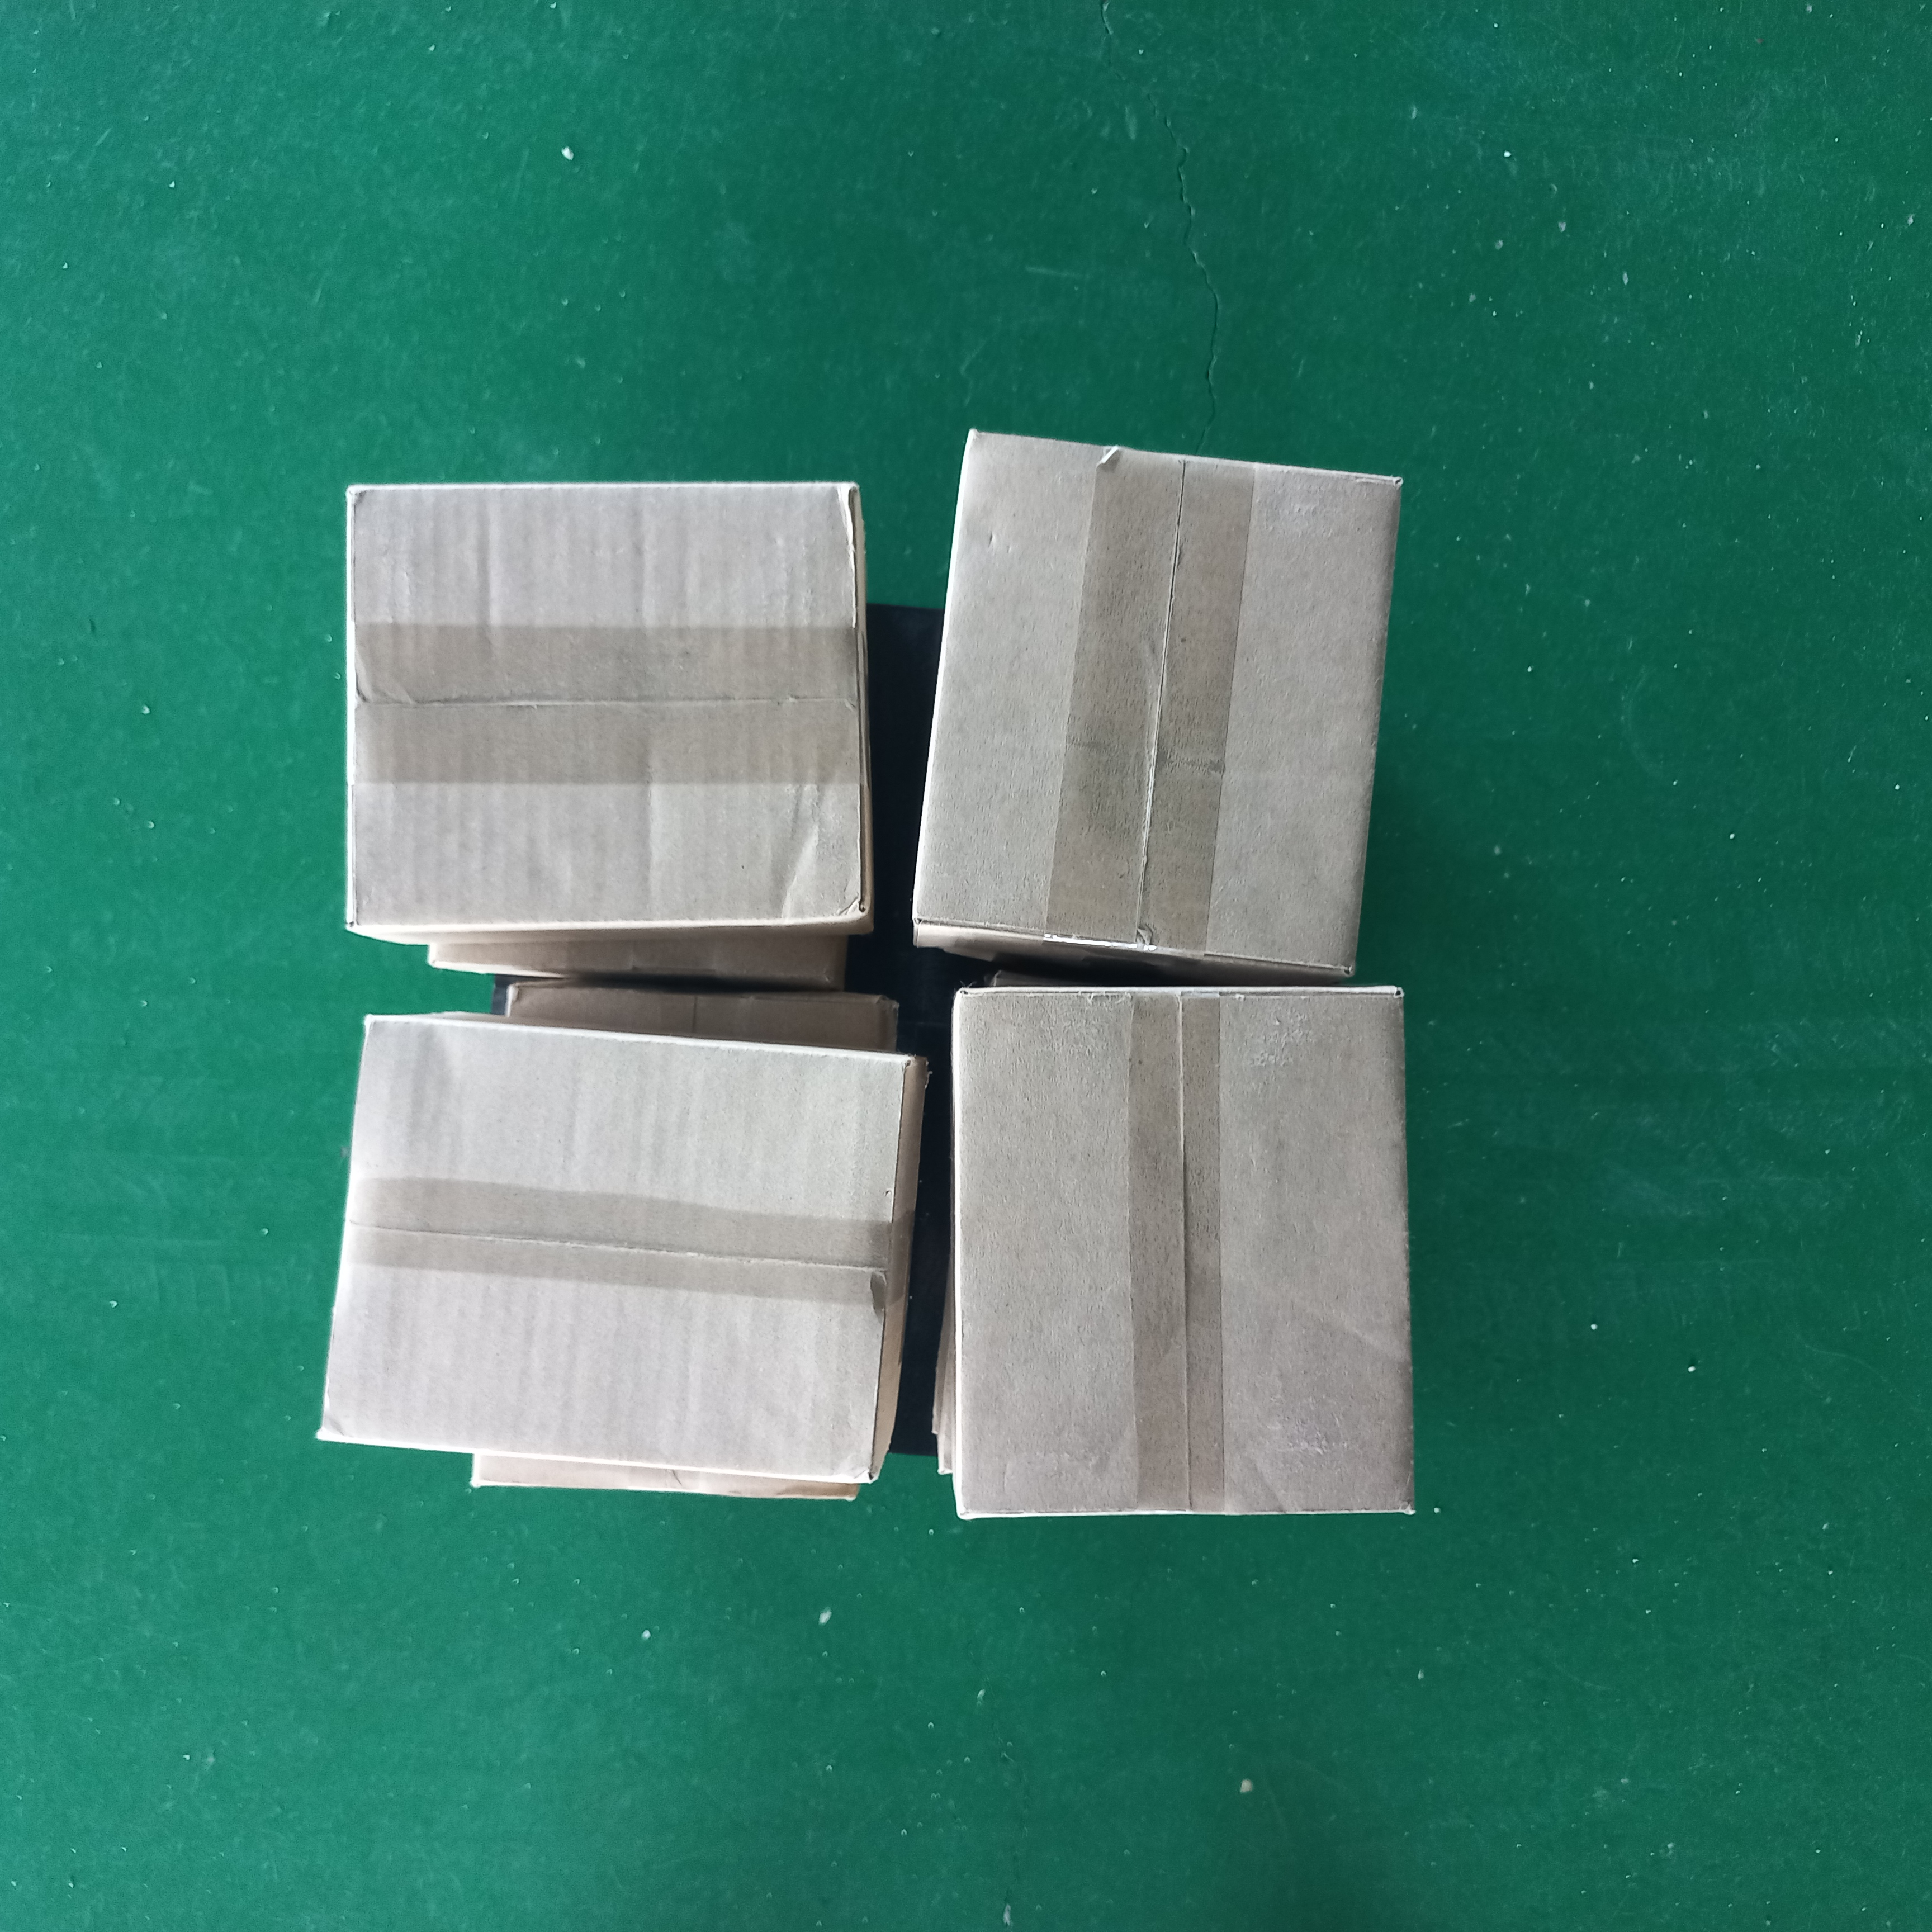box: (311, 1012, 924, 1500), (311, 1010, 922, 1495), (899, 423, 1410, 982), (908, 425, 1410, 982), (338, 467, 881, 971), (939, 975, 1415, 1525), (343, 476, 874, 959), (939, 980, 1414, 1520)
